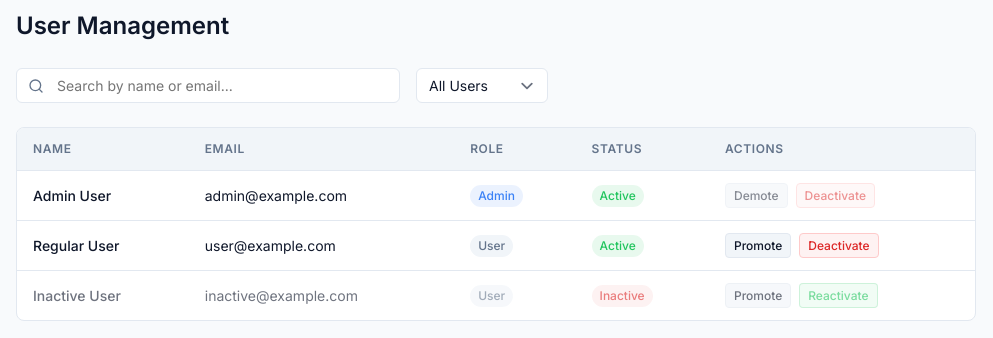
Test: UserManagement › filters users by status - inactive only
The width and height of the screenshot is (993, 338).
Check: the text "Admin User" is shown, box left=17, top=170, right=189, bottom=220
Select "Inactive Only" in the dropdown named "Filter by status" at x=482, y=86, box left=416, top=68, right=548, bottom=103
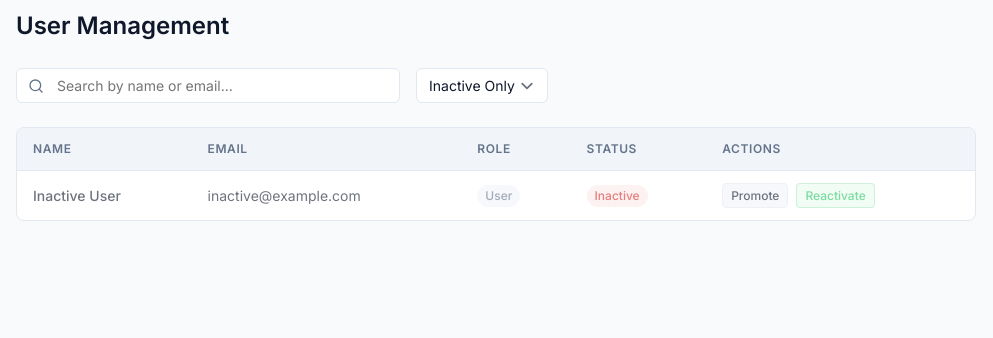
Check: the text "Inactive User" is shown, box left=17, top=170, right=192, bottom=220
Check: the text "Admin User" is gone
Check: the text "Regular User" is gone
